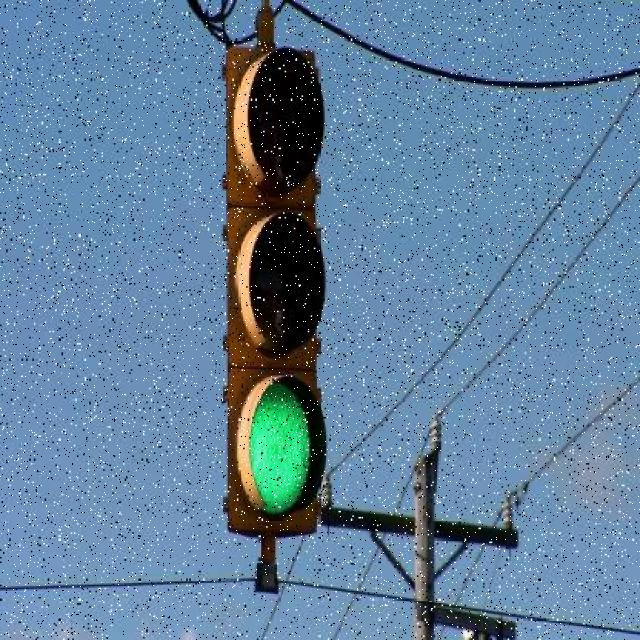green-light: (200, 376, 355, 532)
